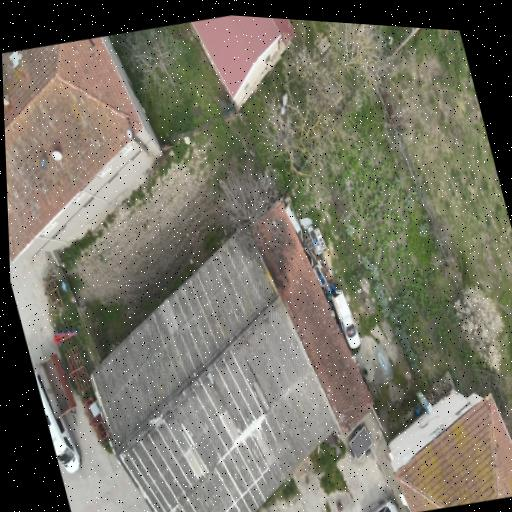bus: (34, 371, 80, 471)
car: (332, 290, 360, 349), (369, 500, 398, 511)
